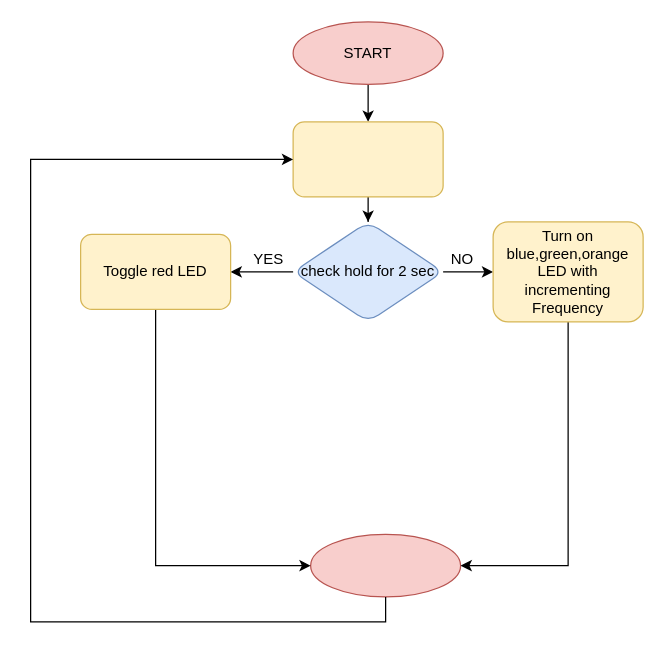
This 665x654 diagram has some shape labels left out. The shapes that lost their labels are listed below. From the top down, each one's box as (x1, y1, x2, y2) in pixels, then its label:
(292, 121, 443, 197): Read Push Button
(309, 533, 461, 597): Stop
